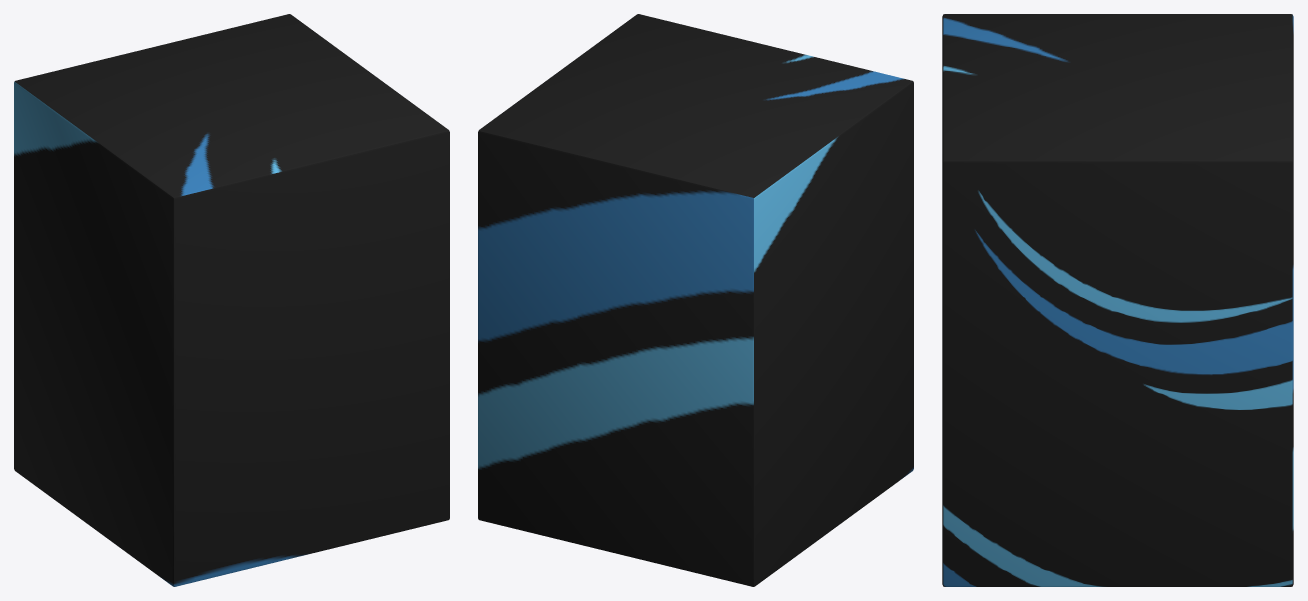
The model's file is SmallProduct03.fbx.
3 views of the same model, side by side, from view 1: azimuth 30°, elevation 25°; view 2: azimuth 150°, elevation 25°; view 3: azimuth 270°, elevation 25° (orthographic). The views are drawn at different scales.
Visible parts, largest first — view 1: Small_Product_002; view 2: Small_Product_002; view 3: Small_Product_002.
Boxes of the visible parts, bbox=[...] form: Small_Product_002: bbox=[14, 14, 449, 586]; Small_Product_002: bbox=[478, 14, 913, 586]; Small_Product_002: bbox=[942, 14, 1293, 586].
Bounding box in the file's own units: 0.4967 × 0.6687 × 0.4981.
